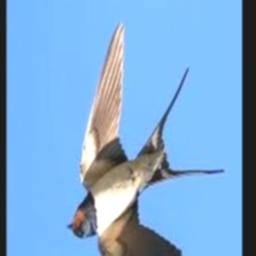Swallow: (67, 22, 225, 256)
